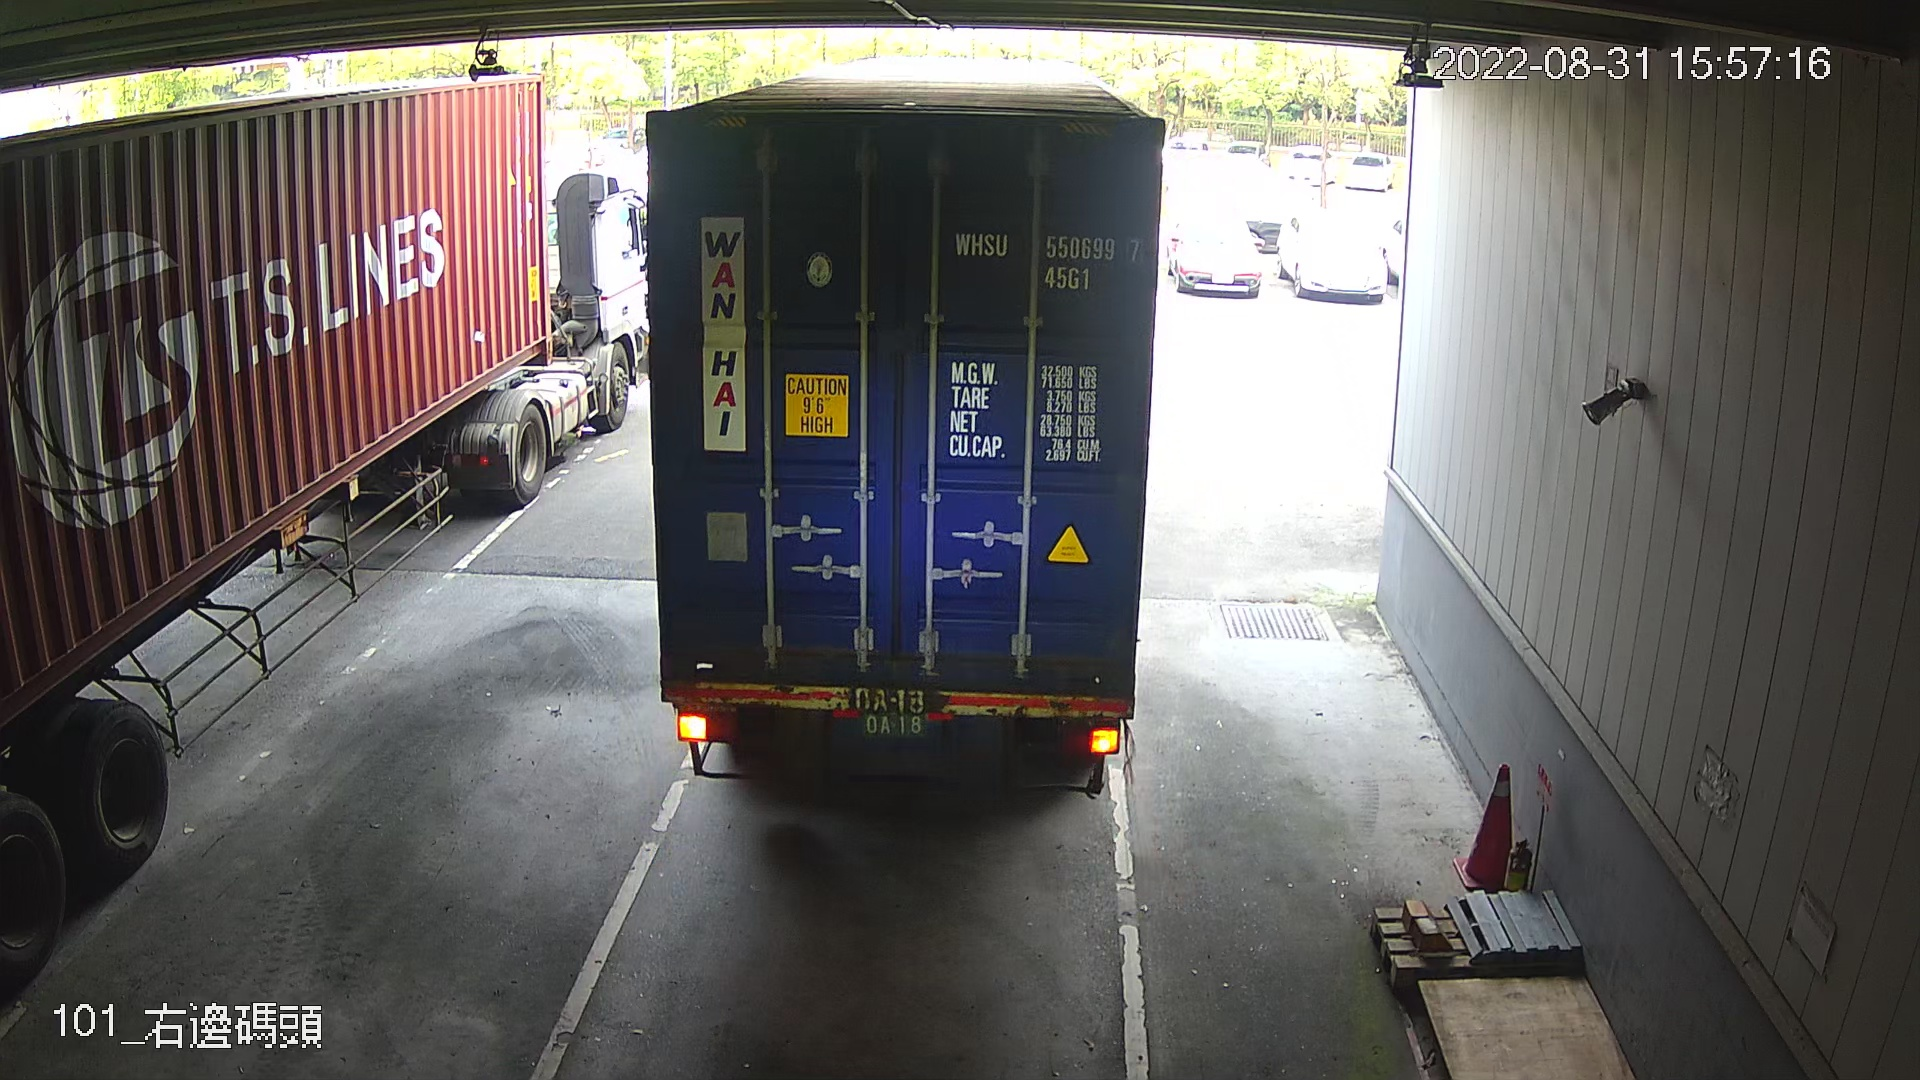container: (945, 219, 1149, 298)
